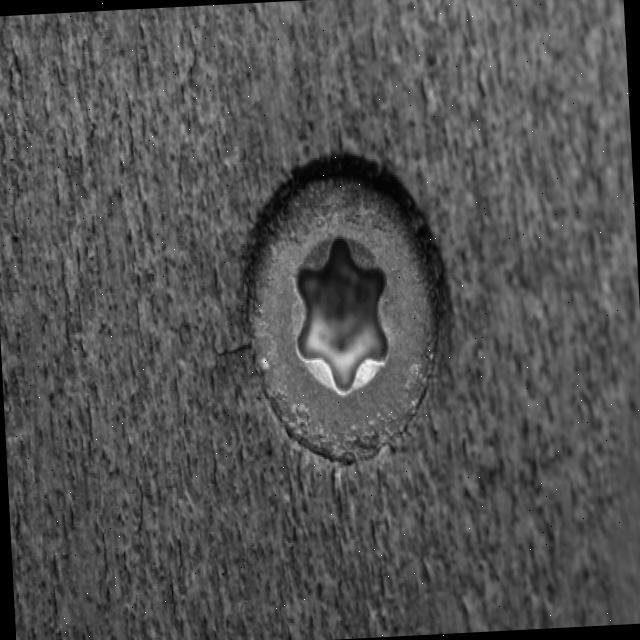Torx: (242, 172, 448, 467)
